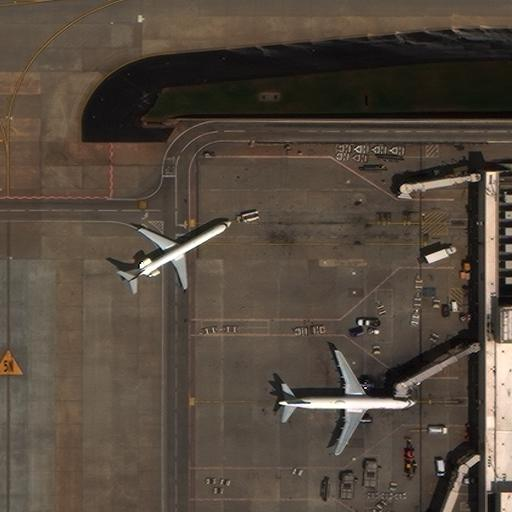Medium Civil Transport: (275, 349, 417, 454), (126, 222, 234, 288)
